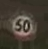limite 50: (6, 9, 37, 40)
